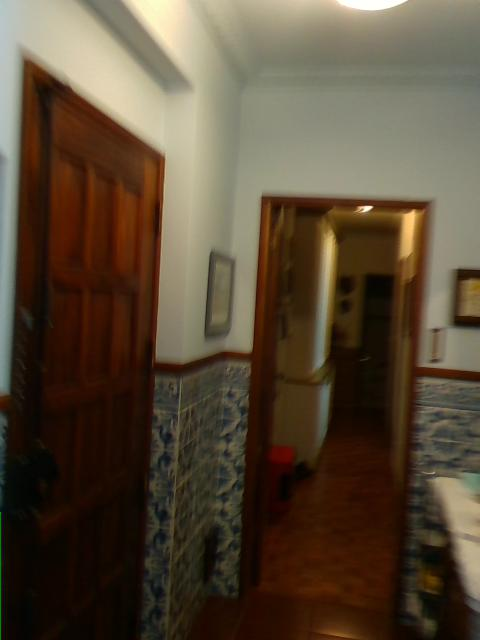door: (32, 90, 157, 638)
